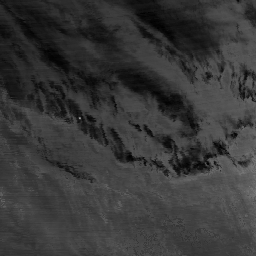Target: (77, 115, 81, 121)
